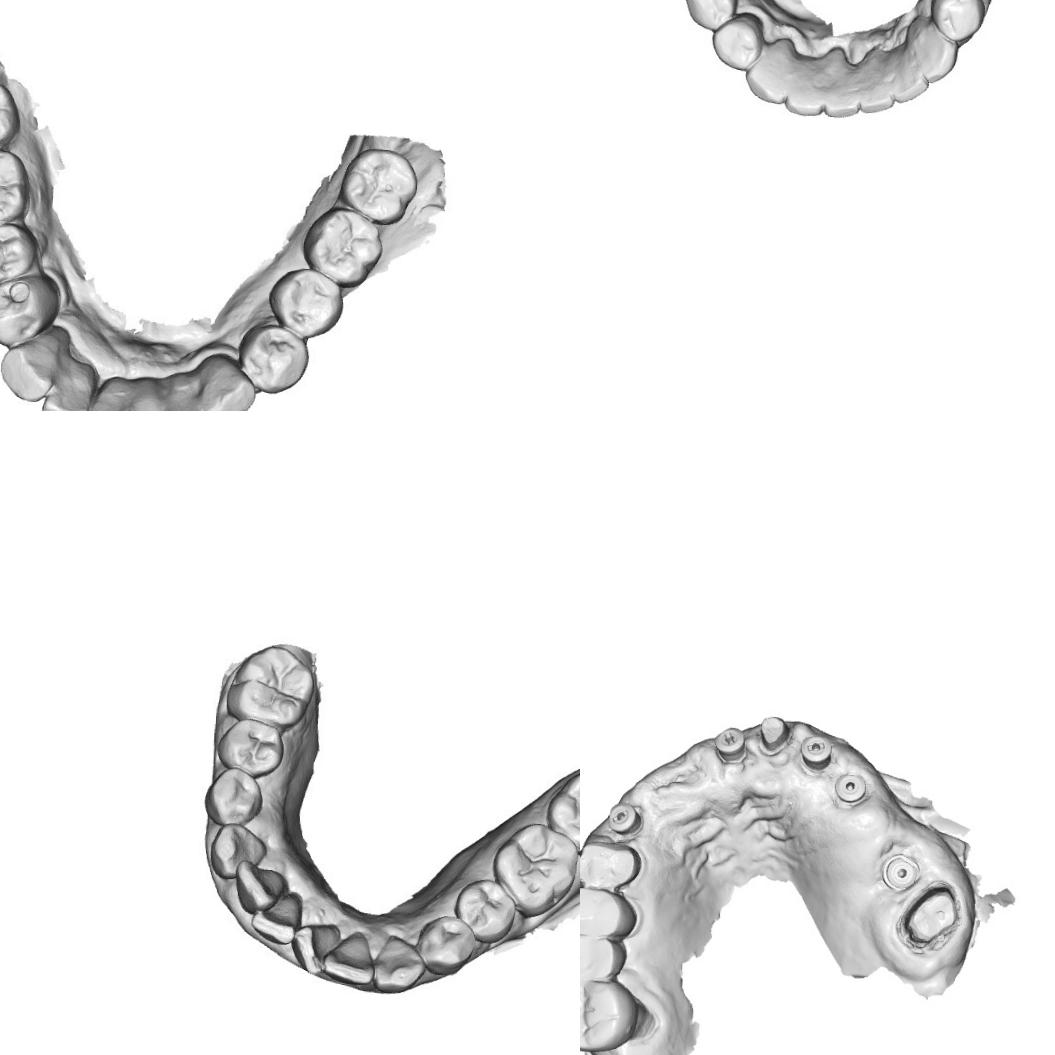canine: (0, 326, 66, 404), (205, 816, 268, 882), (580, 830, 643, 894), (369, 930, 426, 994), (909, 17, 962, 83), (744, 38, 796, 105), (197, 353, 256, 411)
crown: (897, 880, 963, 953), (754, 714, 794, 756)
implant: (834, 768, 869, 802), (884, 854, 918, 889)
implant_minus: (709, 723, 752, 765), (794, 733, 838, 773), (604, 798, 644, 836)
incisor: (324, 931, 380, 987), (854, 45, 898, 115), (821, 50, 864, 121), (253, 890, 303, 948), (782, 56, 828, 119), (290, 918, 339, 977), (885, 47, 932, 107), (232, 858, 288, 907), (47, 358, 97, 411), (159, 372, 211, 411), (90, 371, 130, 411), (126, 373, 167, 411)
molar: (497, 821, 580, 910), (234, 644, 316, 723), (305, 209, 384, 287), (341, 148, 416, 225), (580, 975, 644, 1055), (543, 765, 580, 855), (0, 142, 24, 230), (0, 78, 19, 151)
premolar: (267, 264, 349, 340), (239, 320, 314, 396), (0, 266, 62, 346), (414, 913, 481, 977), (708, 8, 766, 74), (206, 766, 264, 826), (220, 716, 279, 774), (463, 879, 520, 939), (580, 883, 640, 939), (0, 219, 43, 289), (925, 0, 989, 44), (580, 932, 629, 981), (680, 0, 738, 31)
